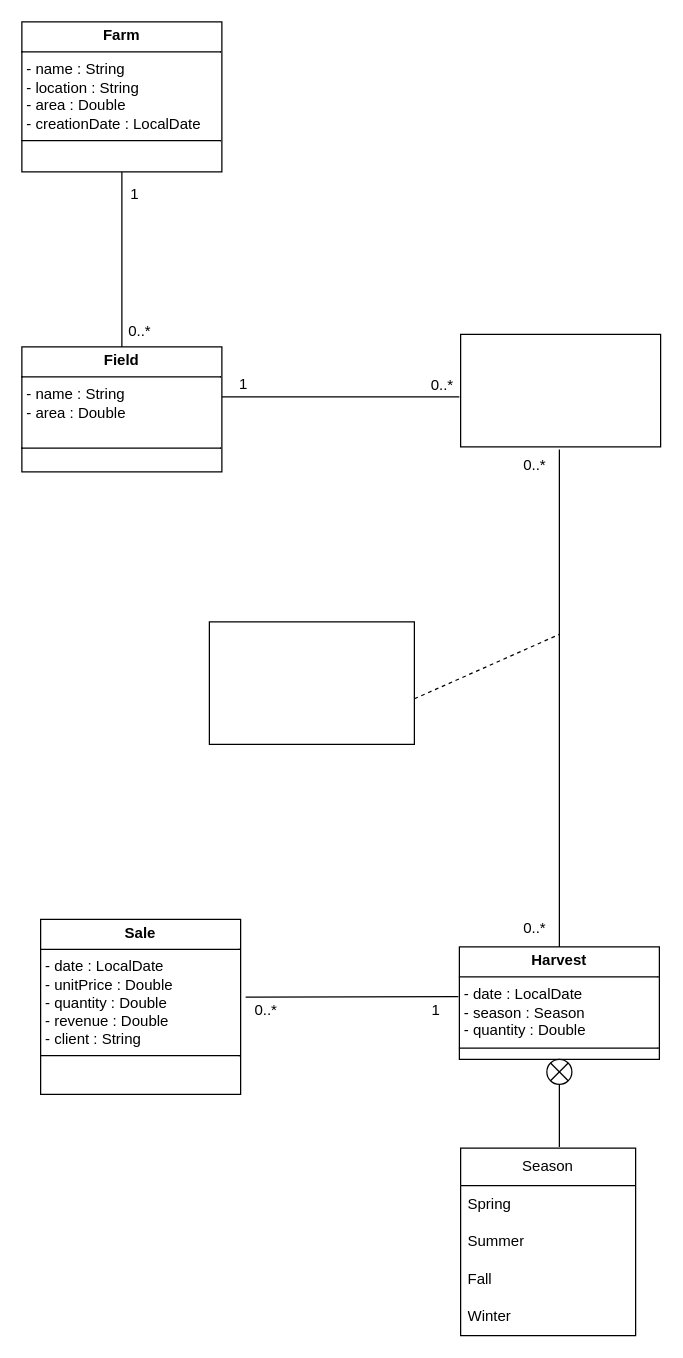
Image size: 683x1358. Some labels were removed from this diagram. The shapes that lost their labels are listed below. From the top down, each one's box as (x1, y1, x2, y2) in pixels, then its label:
(459, 333, 661, 447): Tree - plantationDate : LocalDate - age : Integer
(208, 621, 414, 744): HarvestDetail - quantity : Double
